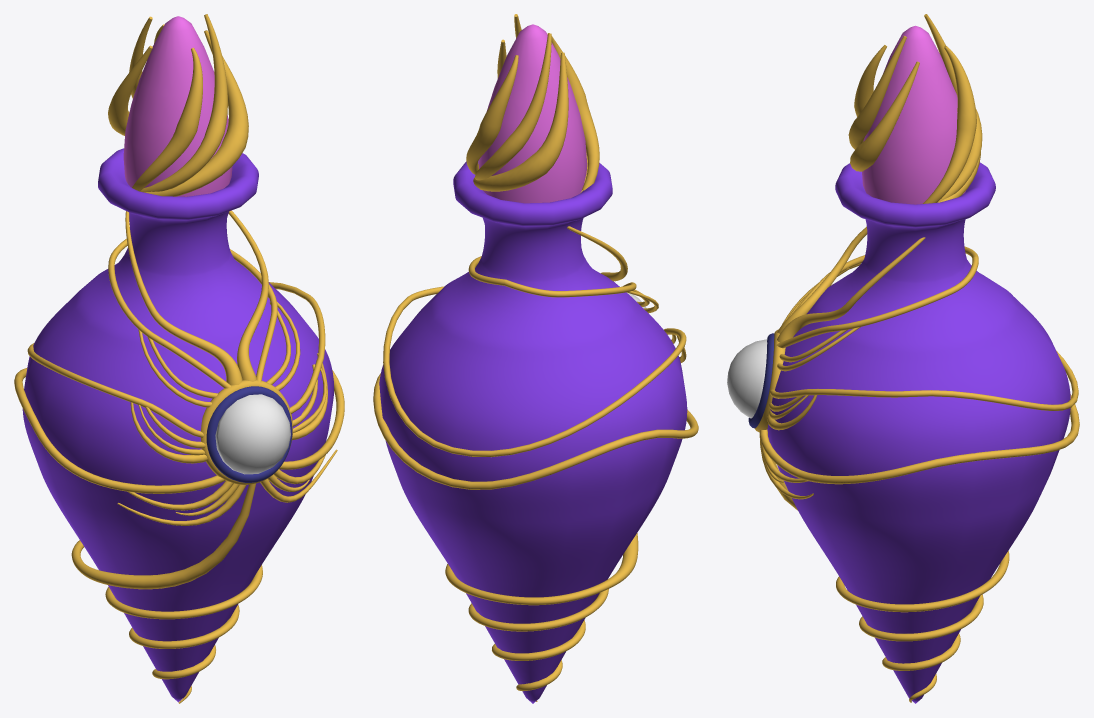
Rendered from Magic_Eye_Potion.fbx.
3 views of the same model, side by side, from view 1: azimuth 30°, elevation 25°; view 2: azimuth 150°, elevation 25°; view 3: azimuth 270°, elevation 25° (orthographic).
Visible parts, largest first — view 1: Bottle base, Rope 2, Rope5, Cap, Spiral.001, Eye, Rope4, Rope, Rope 3, Eye Bottle, eye B change; view 2: Bottle base, Rope5, Cap, Spiral.001, Rope 3, Rope4, Rope 2, Rope; view 3: Bottle base, Cap, Rope5, Rope 2, Spiral.001, Rope4, Rope 3, Rope, Eye, Eye Bottle, eye B change.
Part boxes in pixels (<box>): Bottle base: <box>22,148,334,702</box>; Rope 2: <box>108,239,337,525</box>; Rope5: <box>108,14,248,196</box>; Cap: <box>123,16,232,196</box>; Spiral.001: <box>71,483,262,703</box>; Eye: <box>215,394,290,474</box>; Rope4: <box>14,368,344,493</box>; Rope: <box>125,210,268,385</box>; Rope 3: <box>27,282,325,437</box>; Eye Bottle: <box>206,386,292,482</box>; eye B change: <box>201,380,292,484</box>; Bottle base: <box>379,160,687,703</box>; Rope5: <box>466,14,599,192</box>; Cap: <box>478,24,587,203</box>; Spiral.001: <box>445,533,638,701</box>; Rope 3: <box>383,286,686,457</box>; Rope4: <box>373,373,698,489</box>; Rope 2: <box>468,256,686,362</box>; Rope: <box>567,226,627,281</box>; Bottle base: <box>767,162,1070,703</box>; Cap: <box>862,25,965,204</box>; Rope5: <box>848,14,982,203</box>; Rope 2: <box>759,246,978,499</box>; Spiral.001: <box>772,460,1009,702</box>; Rope4: <box>759,394,1079,484</box>; Rope 3: <box>770,284,1078,410</box>; Rope: <box>777,226,925,342</box>; Eye: <box>727,339,767,418</box>; Eye Bottle: <box>748,333,774,428</box>; eye B change: <box>754,329,785,432</box>.
Size of the model in its own units: 60.77 by 138 by 64.96.
